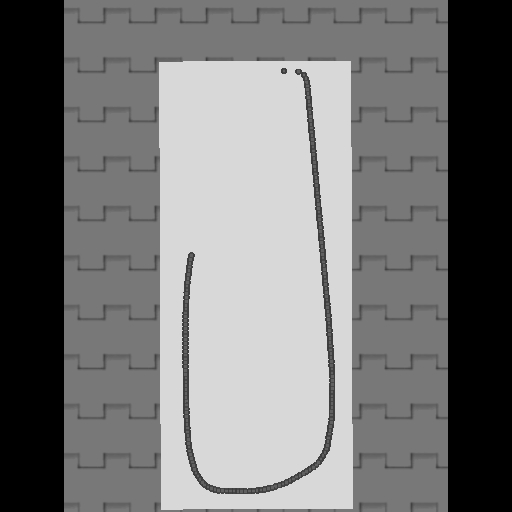Defect: (181, 82, 216, 256)
